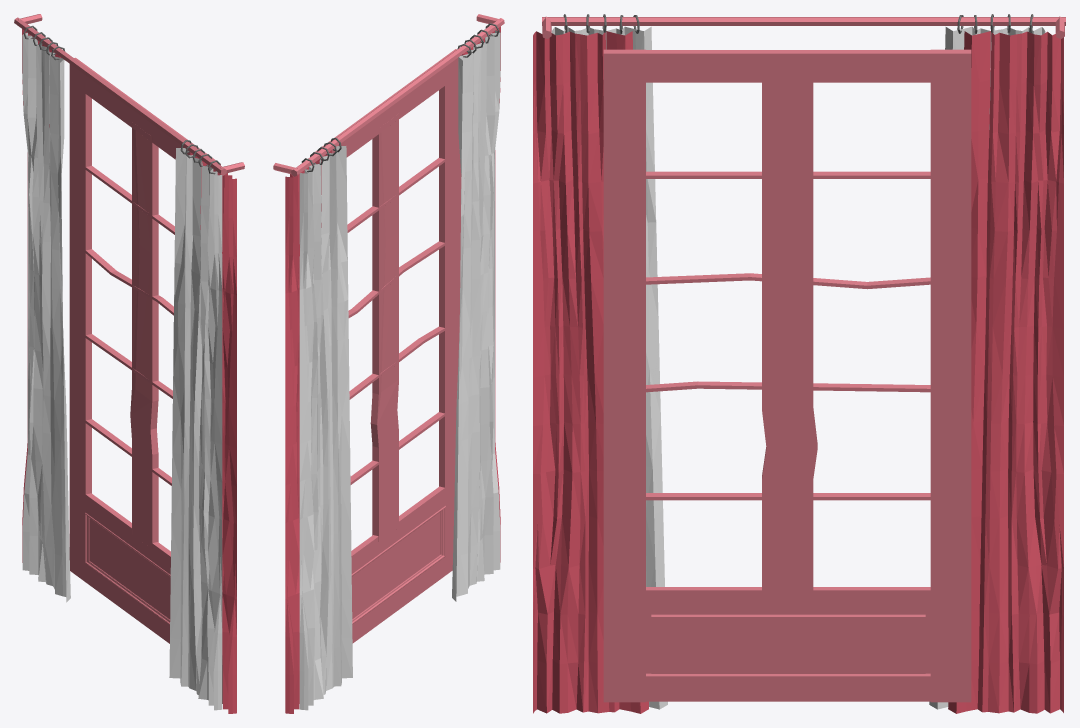
File: windowpink.FBX
3 renders of one model, left to right at view 1: azimuth 30°, elevation 25°; view 2: azimuth 150°, elevation 25°; view 3: azimuth 270°, elevation 25°, orthographic. The views are drawn at different scales.
Parts seen in each view (by area): view 1: Cylinder069; view 2: Cylinder069; view 3: Cylinder069.
Boxes of the visible parts, x1,y1,x2,y2 form: Cylinder069: [14, 14, 244, 713]; Cylinder069: [273, 14, 504, 713]; Cylinder069: [533, 14, 1065, 713].
Size of the model in its own units: 10.12 by 185 by 129.
